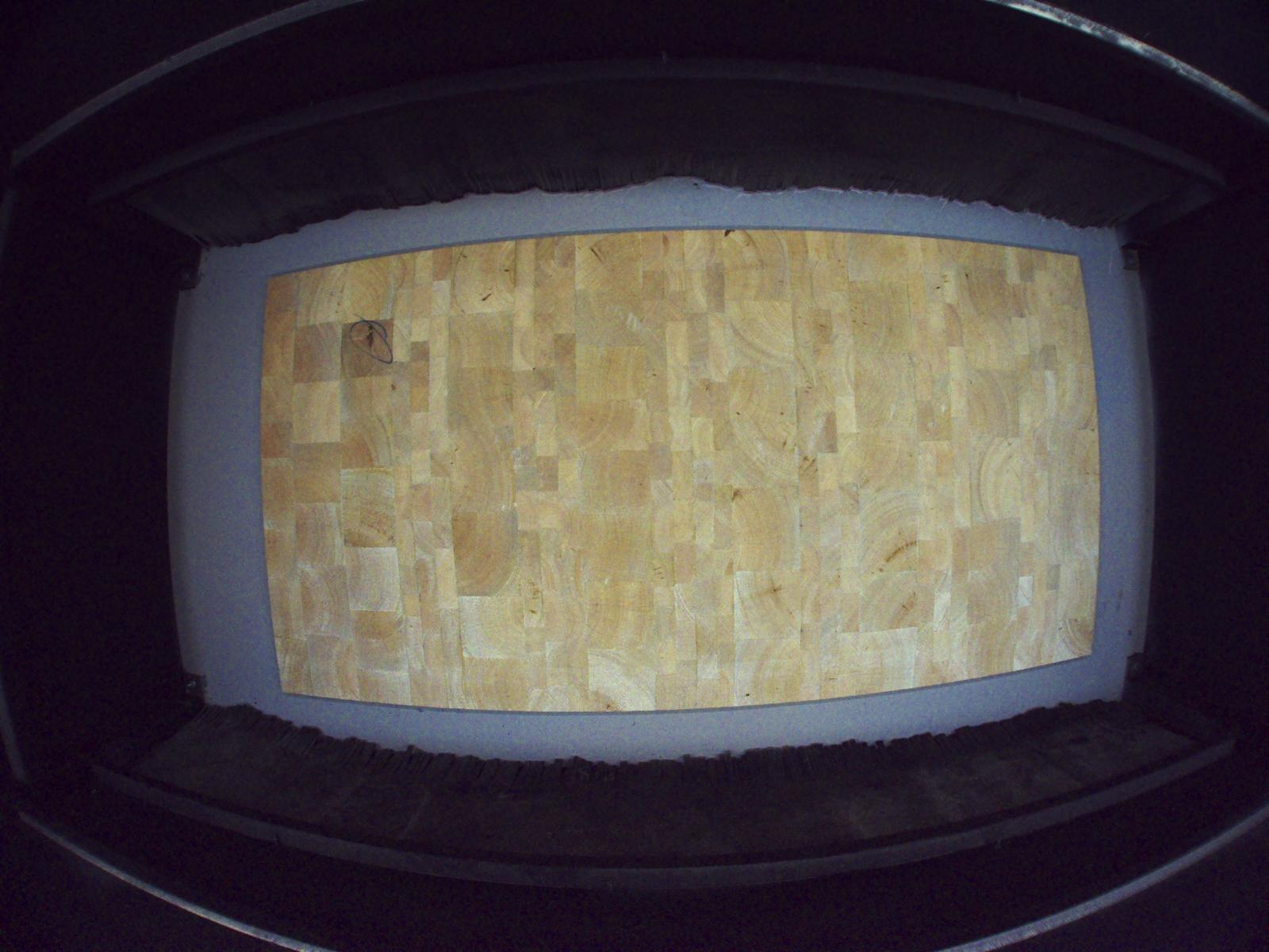nudillo: (366, 320, 375, 355)
